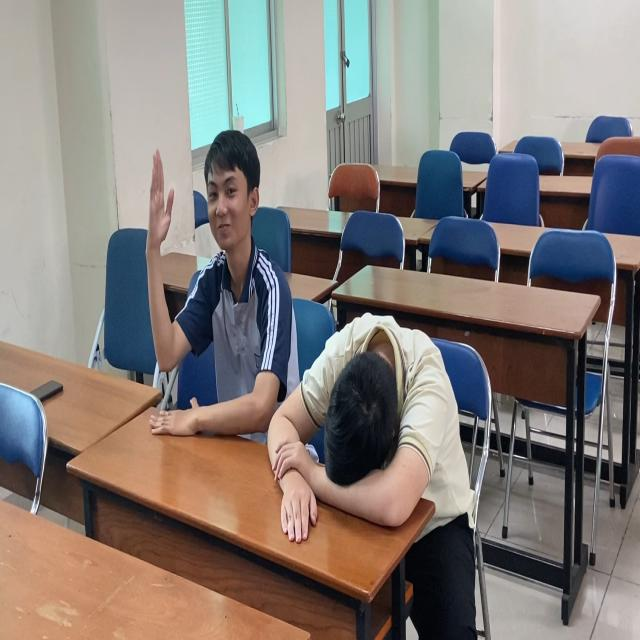raise_hand: (134, 128, 290, 439)
sleep: (283, 304, 454, 506)
